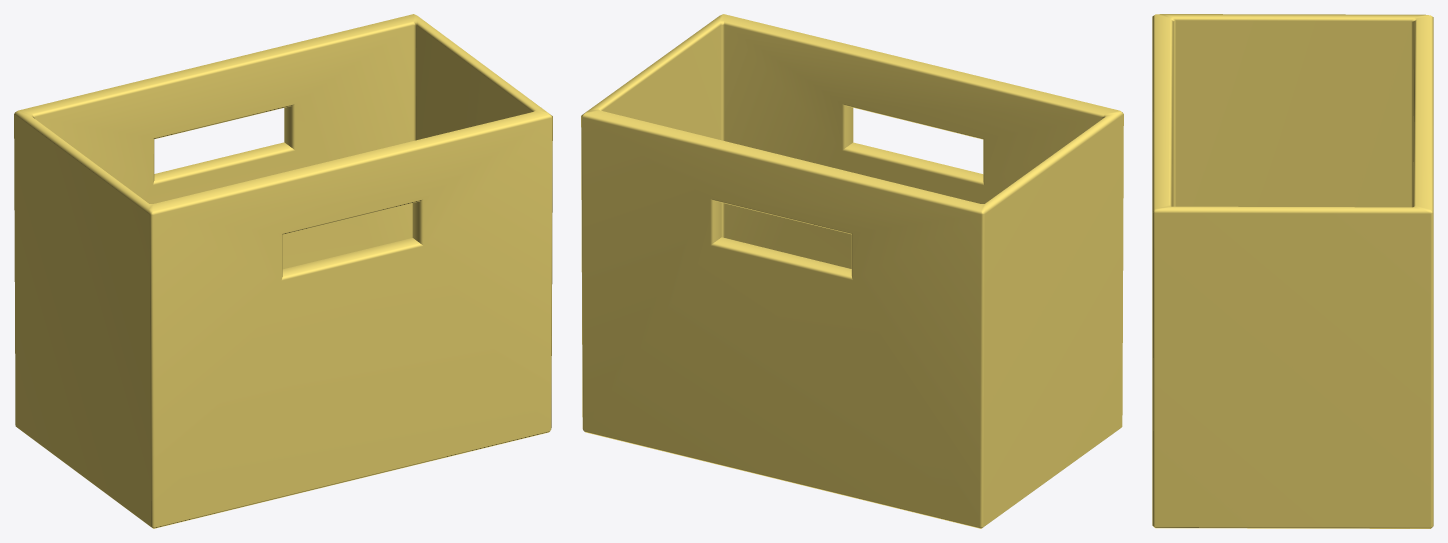
3 renders of one model, left to right at view 1: azimuth 30°, elevation 25°; view 2: azimuth 150°, elevation 25°; view 3: azimuth 270°, elevation 25°, orthographic.
Parts seen in each view (by area): view 1: Box_1; view 2: Box_1; view 3: Box_1.
Part boxes in pixels (x1=…): Box_1: x1=14, y1=14, x2=552, y2=528; Box_1: x1=581, y1=14, x2=1123, y2=528; Box_1: x1=1152, y1=14, x2=1433, y2=528.
Size of the model in its own units: 0.6408 by 0.4807 by 0.3836.
Materials: 1 (1 with a texture image).
